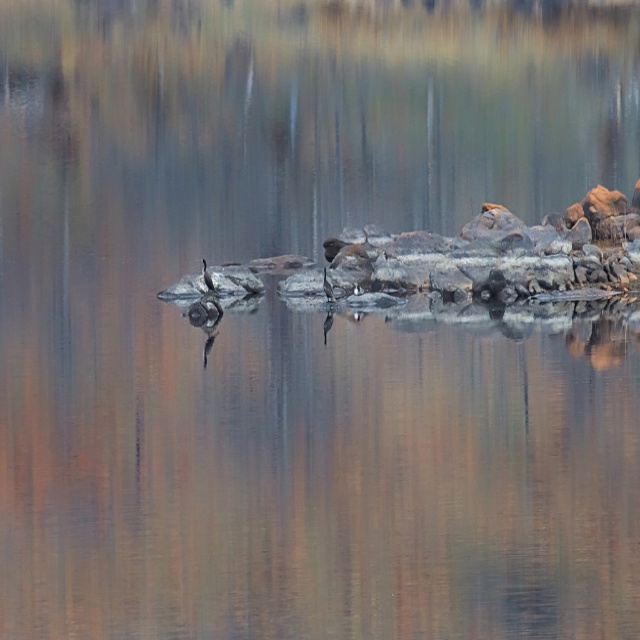Duck: (198, 255, 223, 304), (322, 267, 336, 306)
